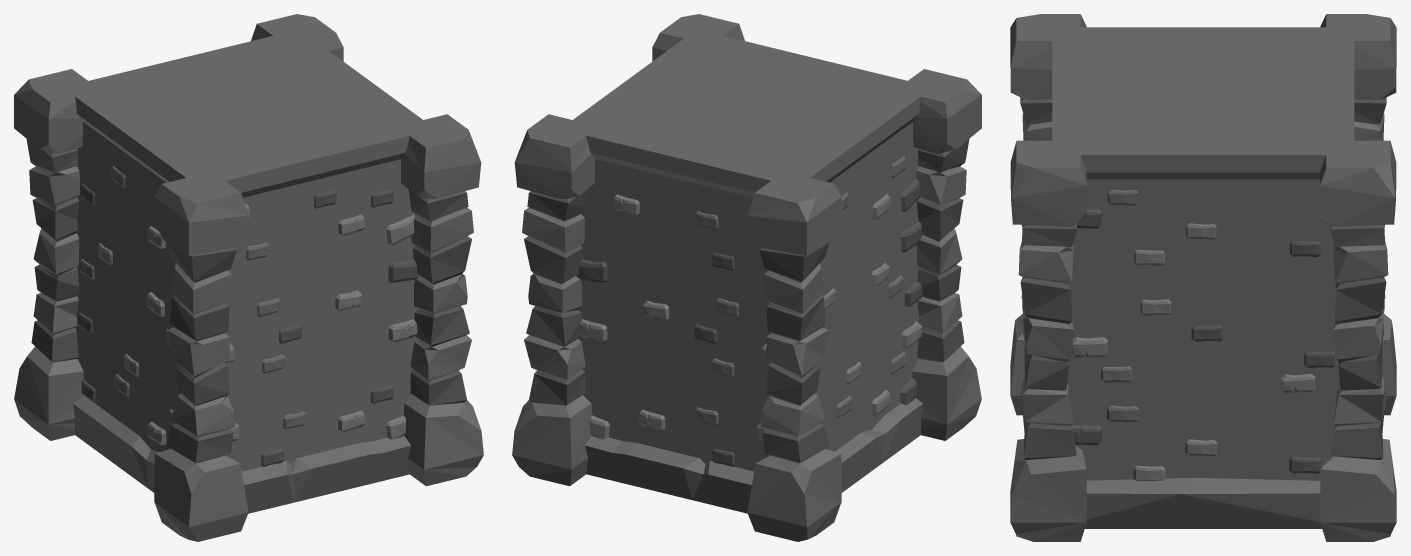
Rendered from SM_Bld_Church_TowerBase_01.gltf.
3 renders of one model, left to right at view 1: azimuth 30°, elevation 25°; view 2: azimuth 150°, elevation 25°; view 3: azimuth 270°, elevation 25°, orthographic. The views are drawn at different scales.
Parts seen in each view (by area): view 1: SM_Bld_Church_TowerBase_01; view 2: SM_Bld_Church_TowerBase_01; view 3: SM_Bld_Church_TowerBase_01.
Part boxes in pixels (bbox=[...]): SM_Bld_Church_TowerBase_01: bbox=[14, 14, 483, 541]; SM_Bld_Church_TowerBase_01: bbox=[512, 14, 981, 541]; SM_Bld_Church_TowerBase_01: bbox=[1010, 14, 1396, 541].
Bounding box in the file's own units: 2.97 × 3.26 × 3.05.
1 material, 1 textured.
